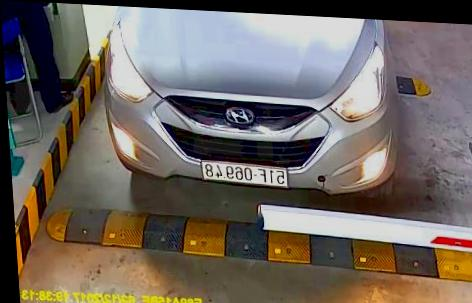License_Plate: (201, 161, 287, 188)
